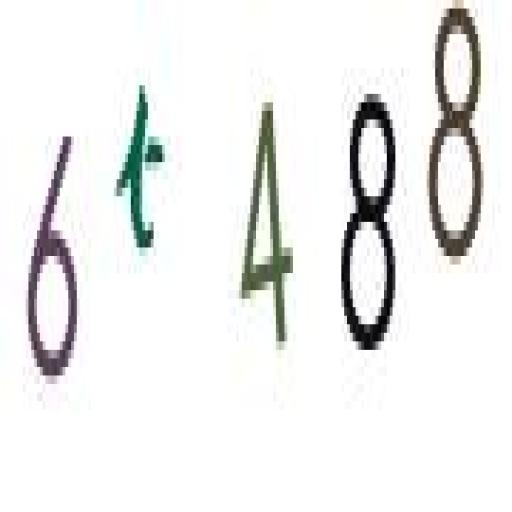4: (236, 91, 298, 363)
6: (22, 120, 85, 406)
8: (341, 74, 407, 363), (426, 0, 492, 276)
t: (114, 58, 170, 276)
